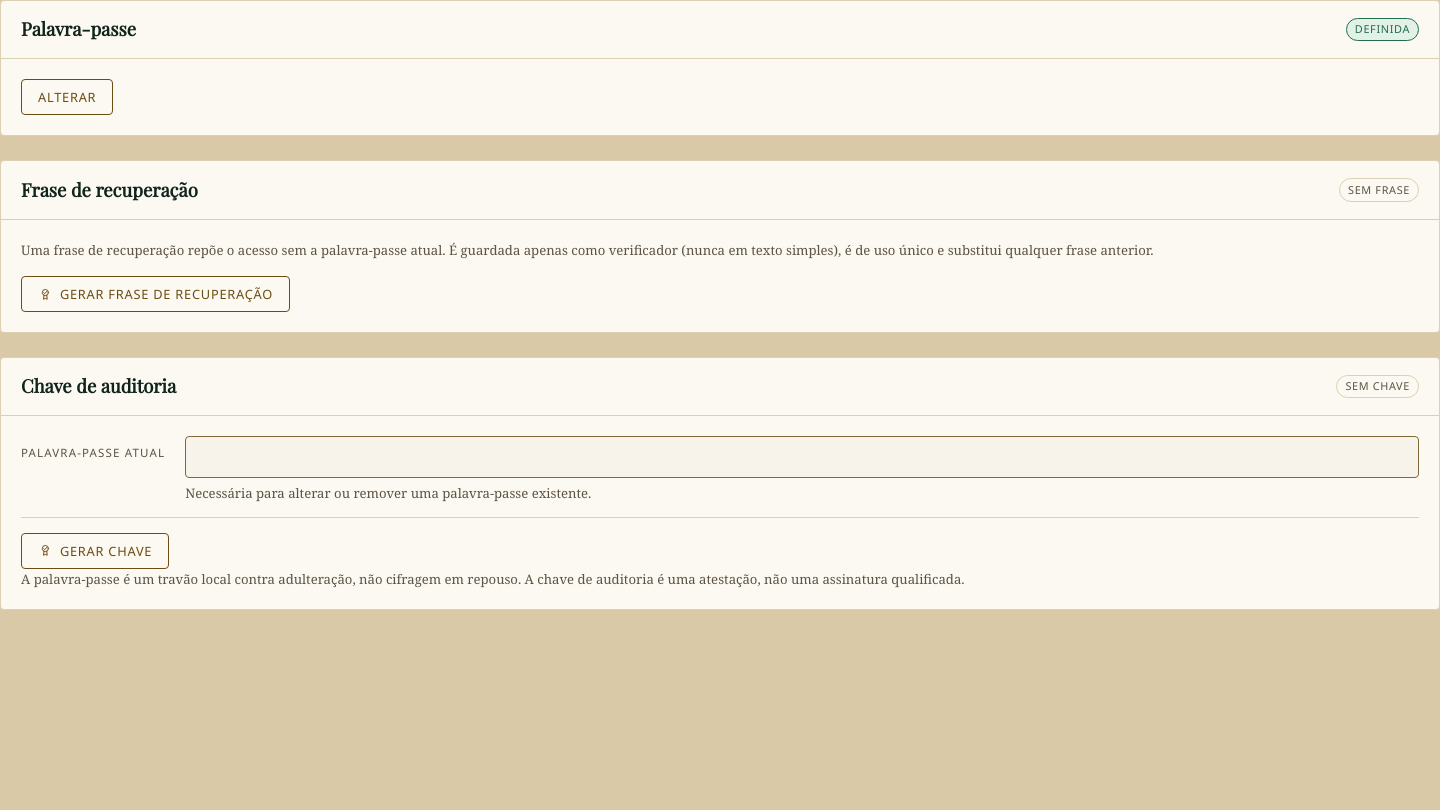
Test case: UserAccessManager — a wrong current password is a field error, not a sign-out › refuses a self-service recovery issuance inline and keeps the session
Click the button "Gerar frase de recuperação" at [156, 294], box [21, 276, 290, 312]
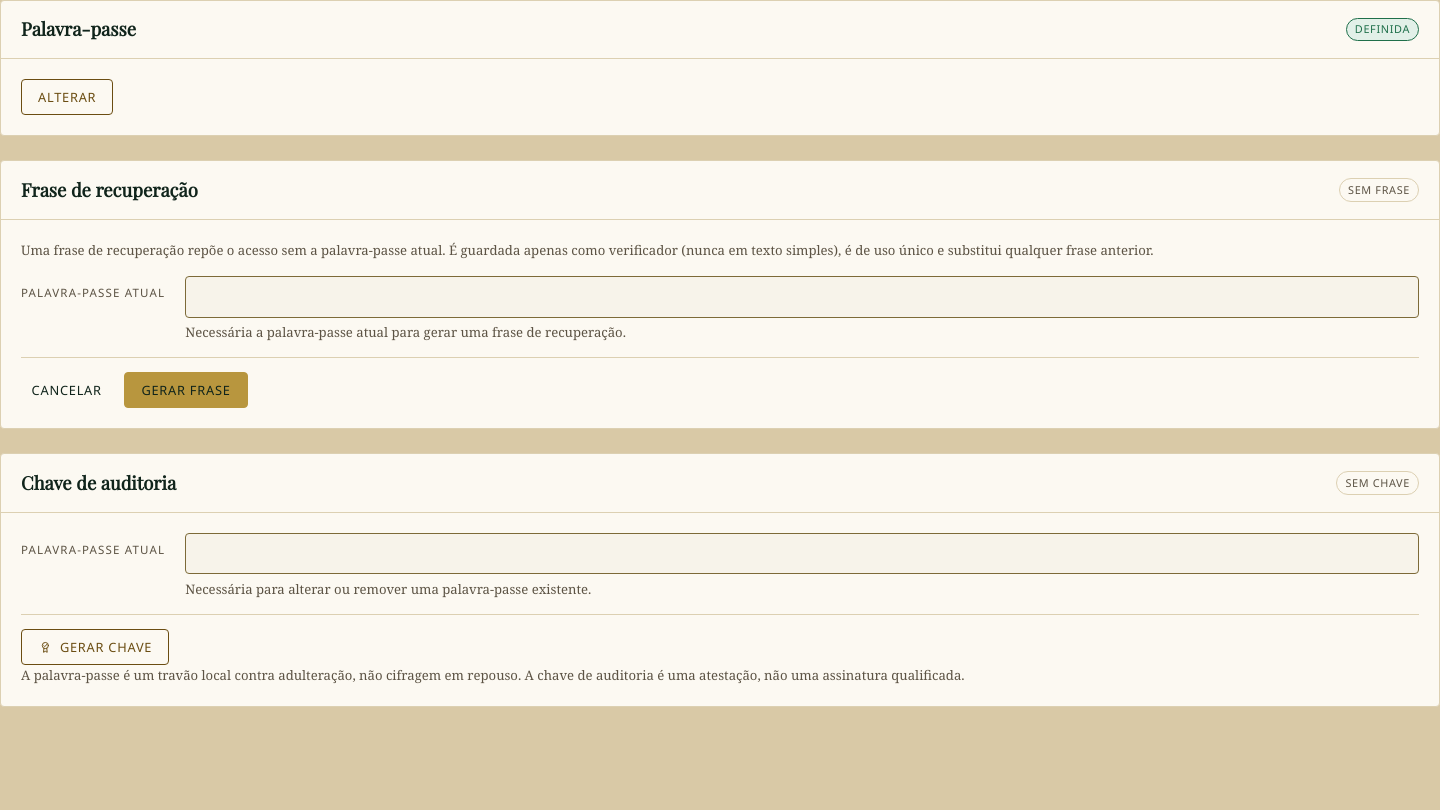
Type "errada" into the password field labelled "Palavra-passe atual" below "Sem frase" at [802, 297], box [185, 276, 1419, 318]
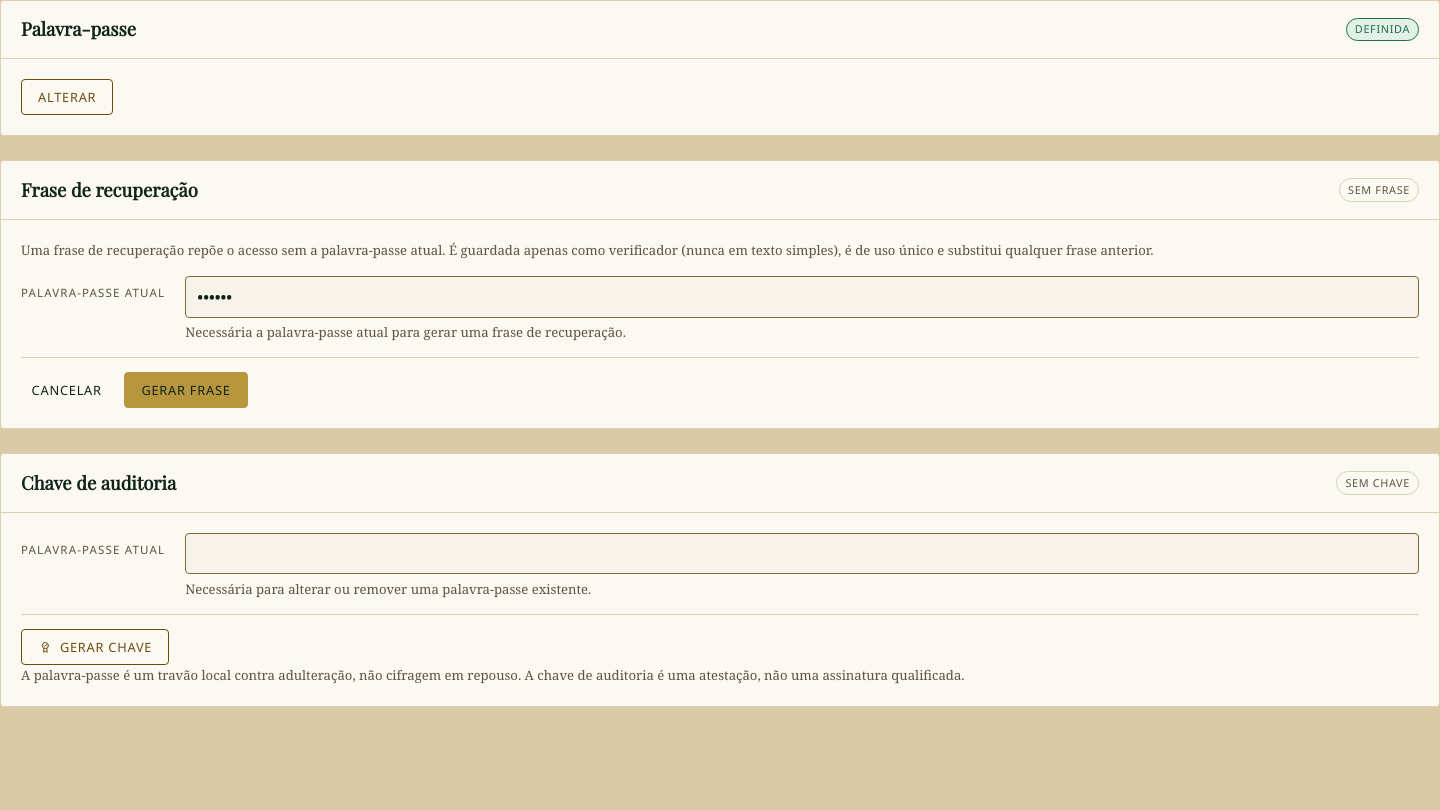
Click the button "Gerar frase" at [186, 390], box [124, 372, 248, 408]
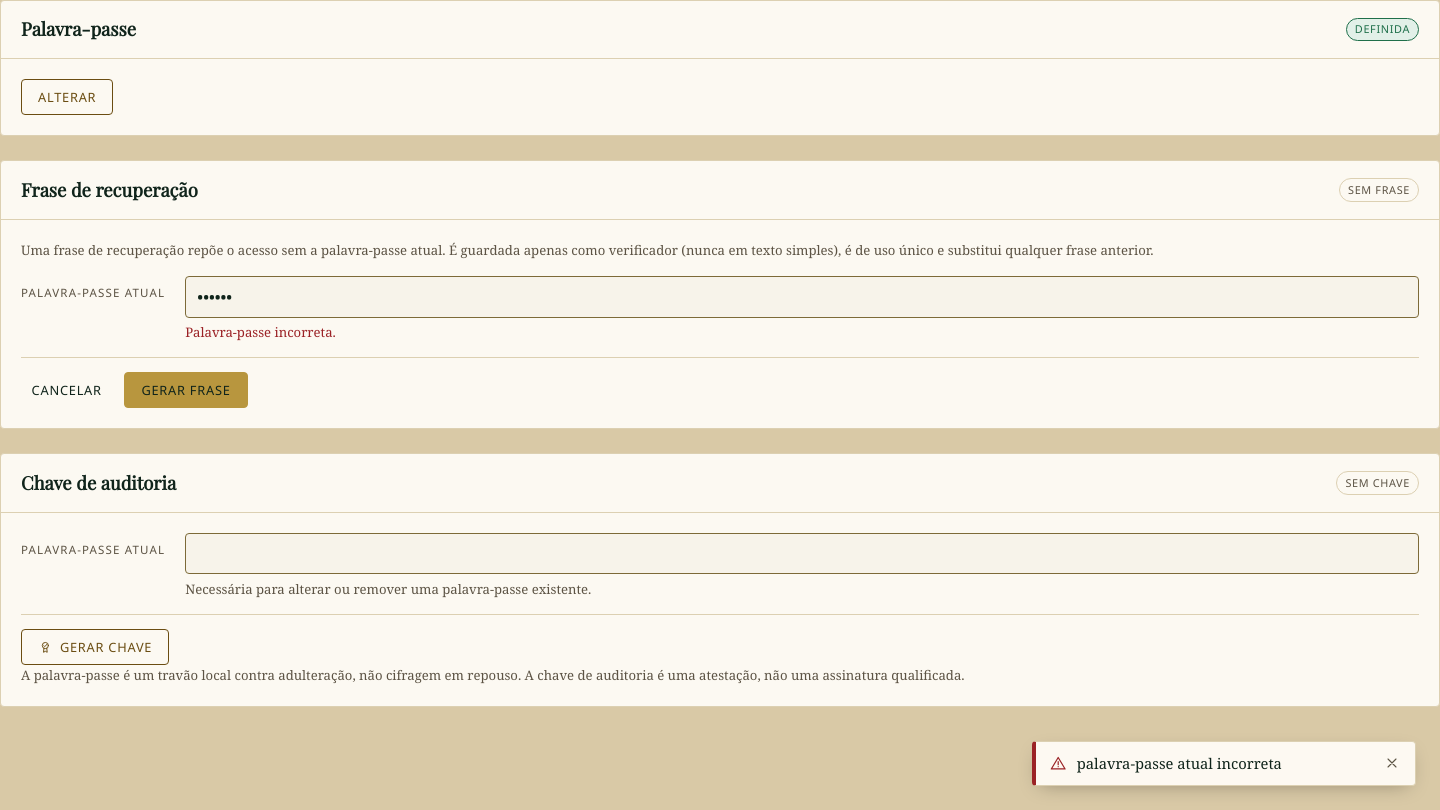
Now the text "Palavra-passe incorreta." is shown, box [185, 323, 336, 341]
Now the text "palavra-passe atual incorreta" is shown, box [1077, 753, 1282, 773]
